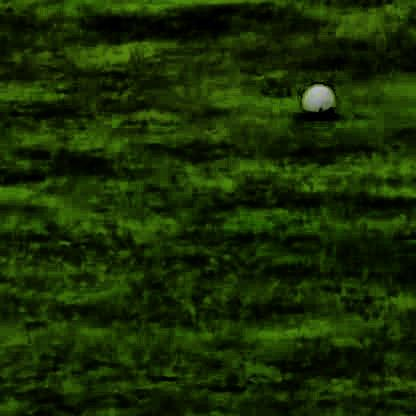golfball: (299, 80, 329, 113)
